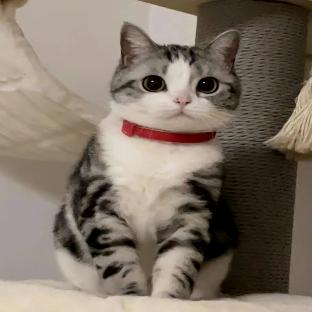Animal: (53, 23, 240, 299)
